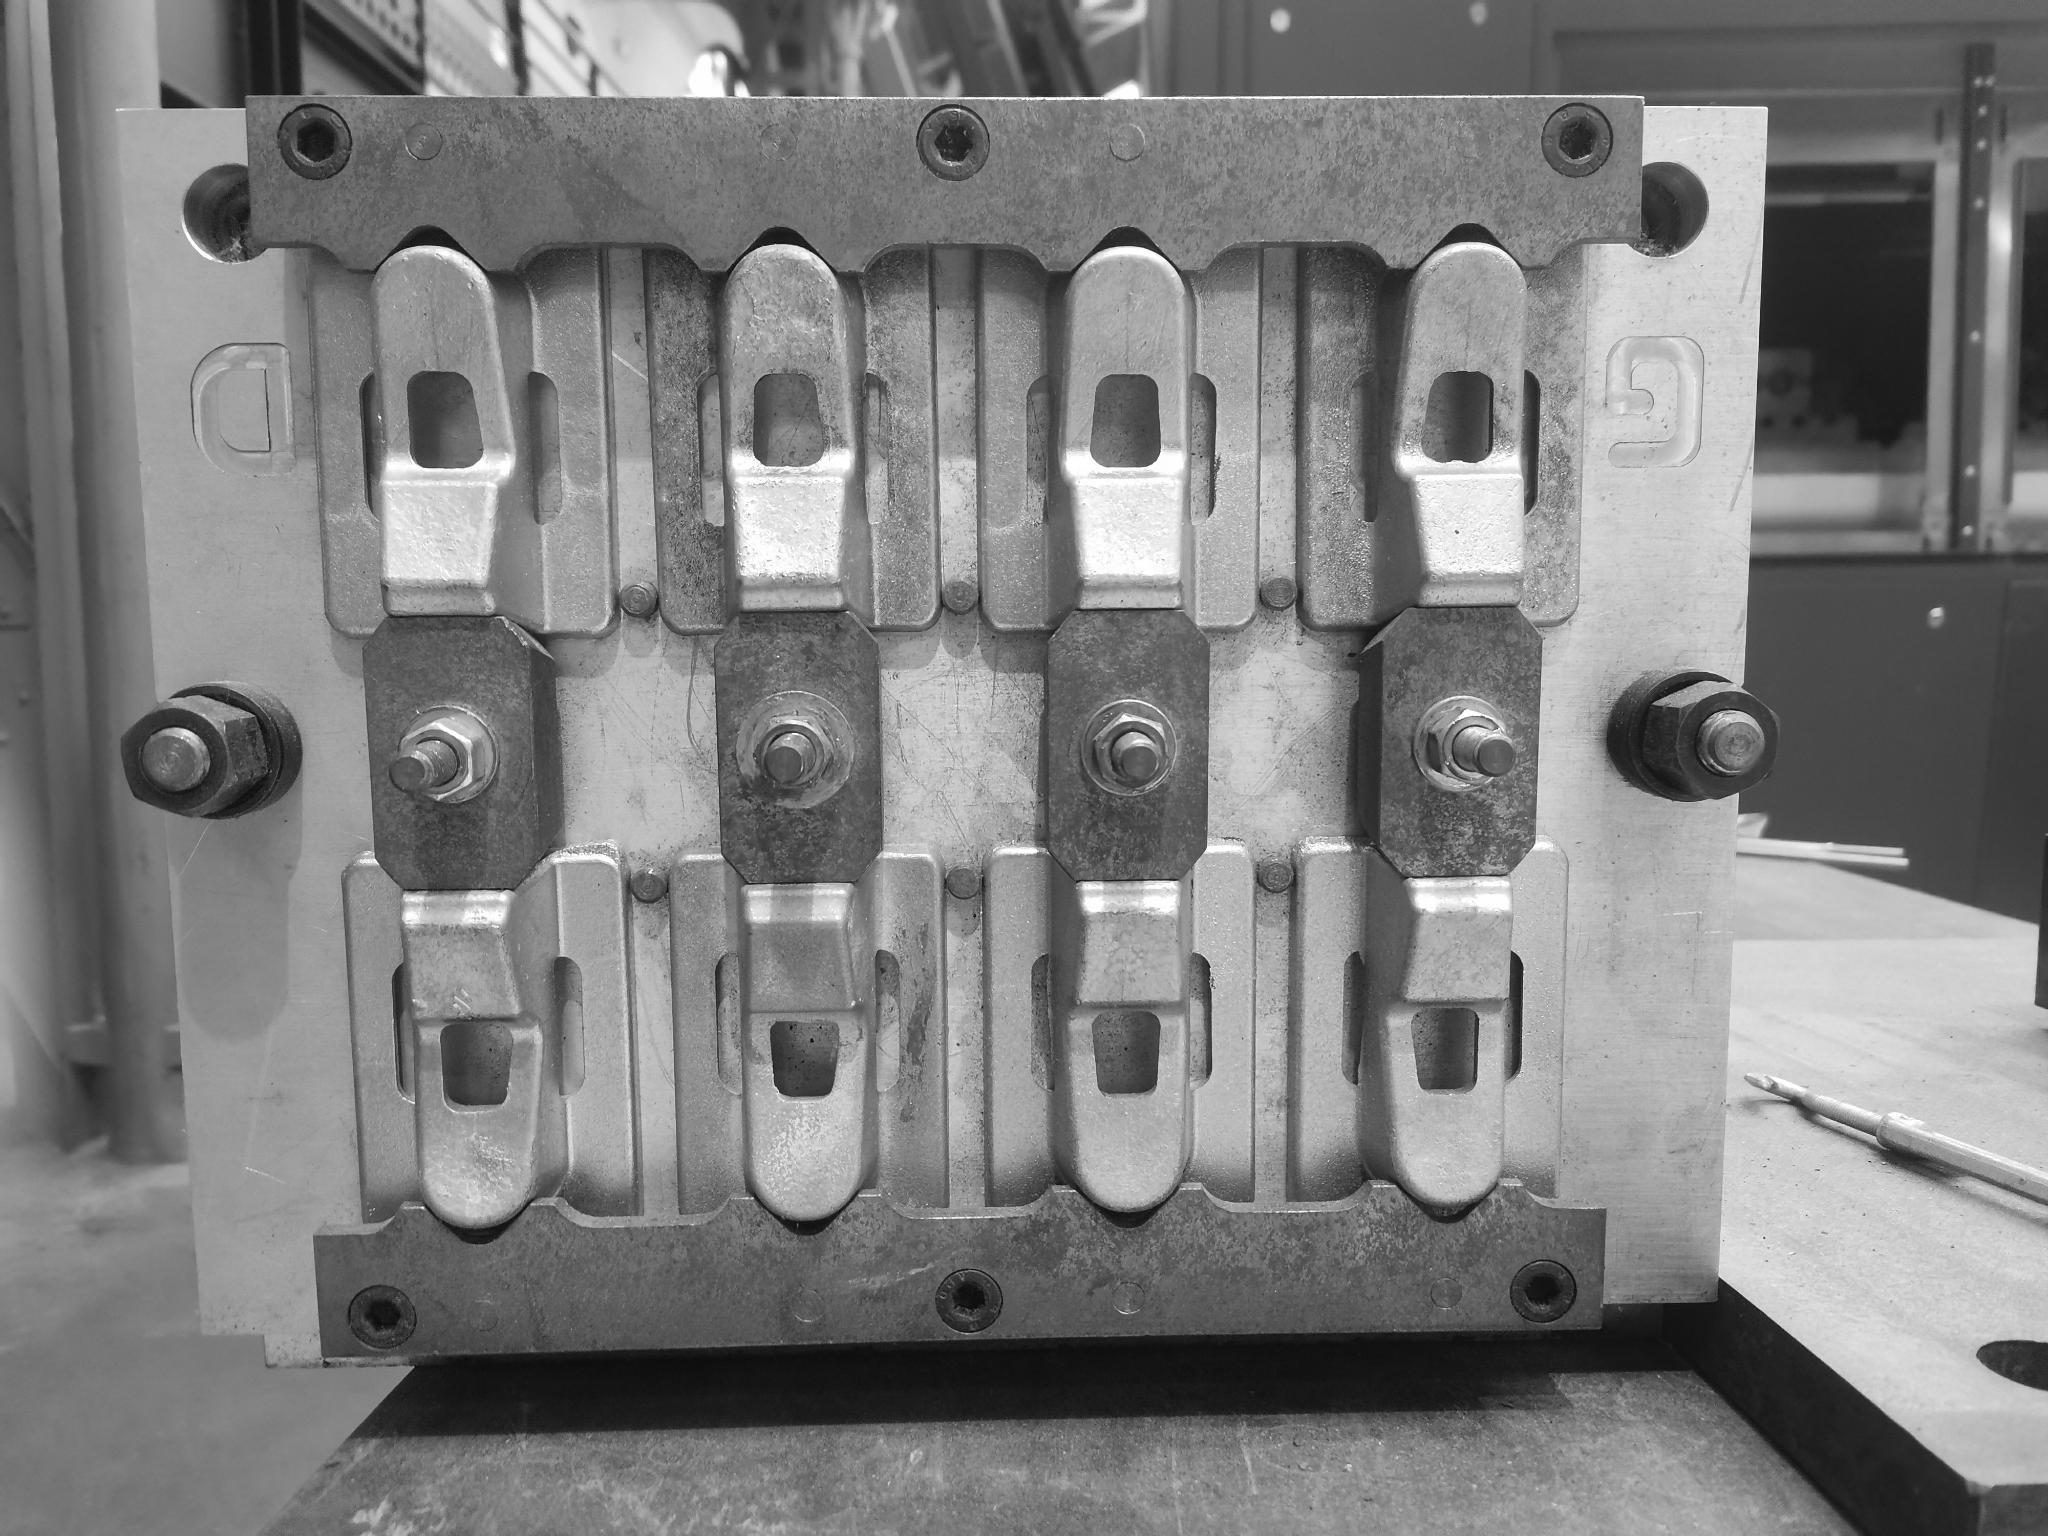screw: (113, 689, 261, 831), (737, 703, 853, 805), (390, 712, 503, 810), (1076, 700, 1177, 800), (1416, 699, 1514, 797), (906, 97, 1001, 189), (1535, 95, 1622, 184), (269, 102, 361, 186), (926, 1263, 1013, 1339), (334, 1283, 426, 1354), (1505, 1257, 1584, 1331)
